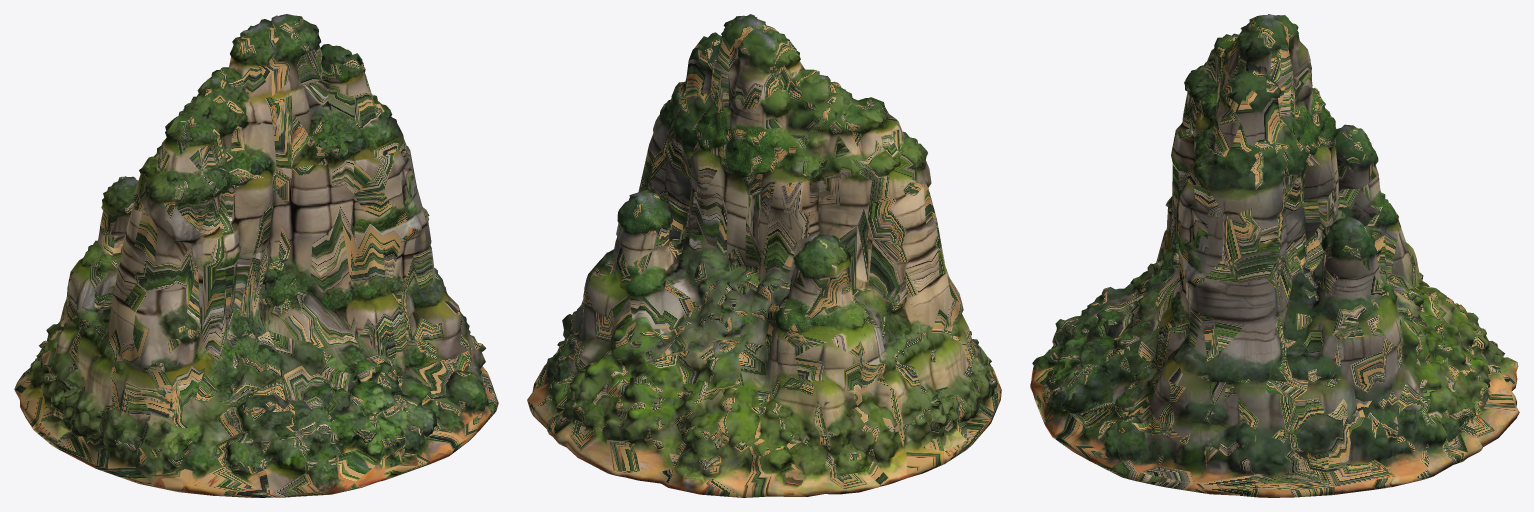
File: Majestic_Rock_Formati.glb
3 renders of one model, left to right at view 1: azimuth 30°, elevation 25°; view 2: azimuth 150°, elevation 25°; view 3: azimuth 270°, elevation 25°, orthographic. The views are drawn at different scales.
Visible parts, largest first — view 1: Majestic_Rock_Formati; view 2: Majestic_Rock_Formati; view 3: Majestic_Rock_Formati.
Part boxes in pixels (x1=…): Majestic_Rock_Formati: x1=14, y1=14, x2=498, y2=497; Majestic_Rock_Formati: x1=527, y1=14, x2=1001, y2=497; Majestic_Rock_Formati: x1=1030, y1=14, x2=1519, y2=497.
Bounding box in the file's own units: 1.9 × 1.69 × 1.91.
Materials: 1 (1 with a texture image).
